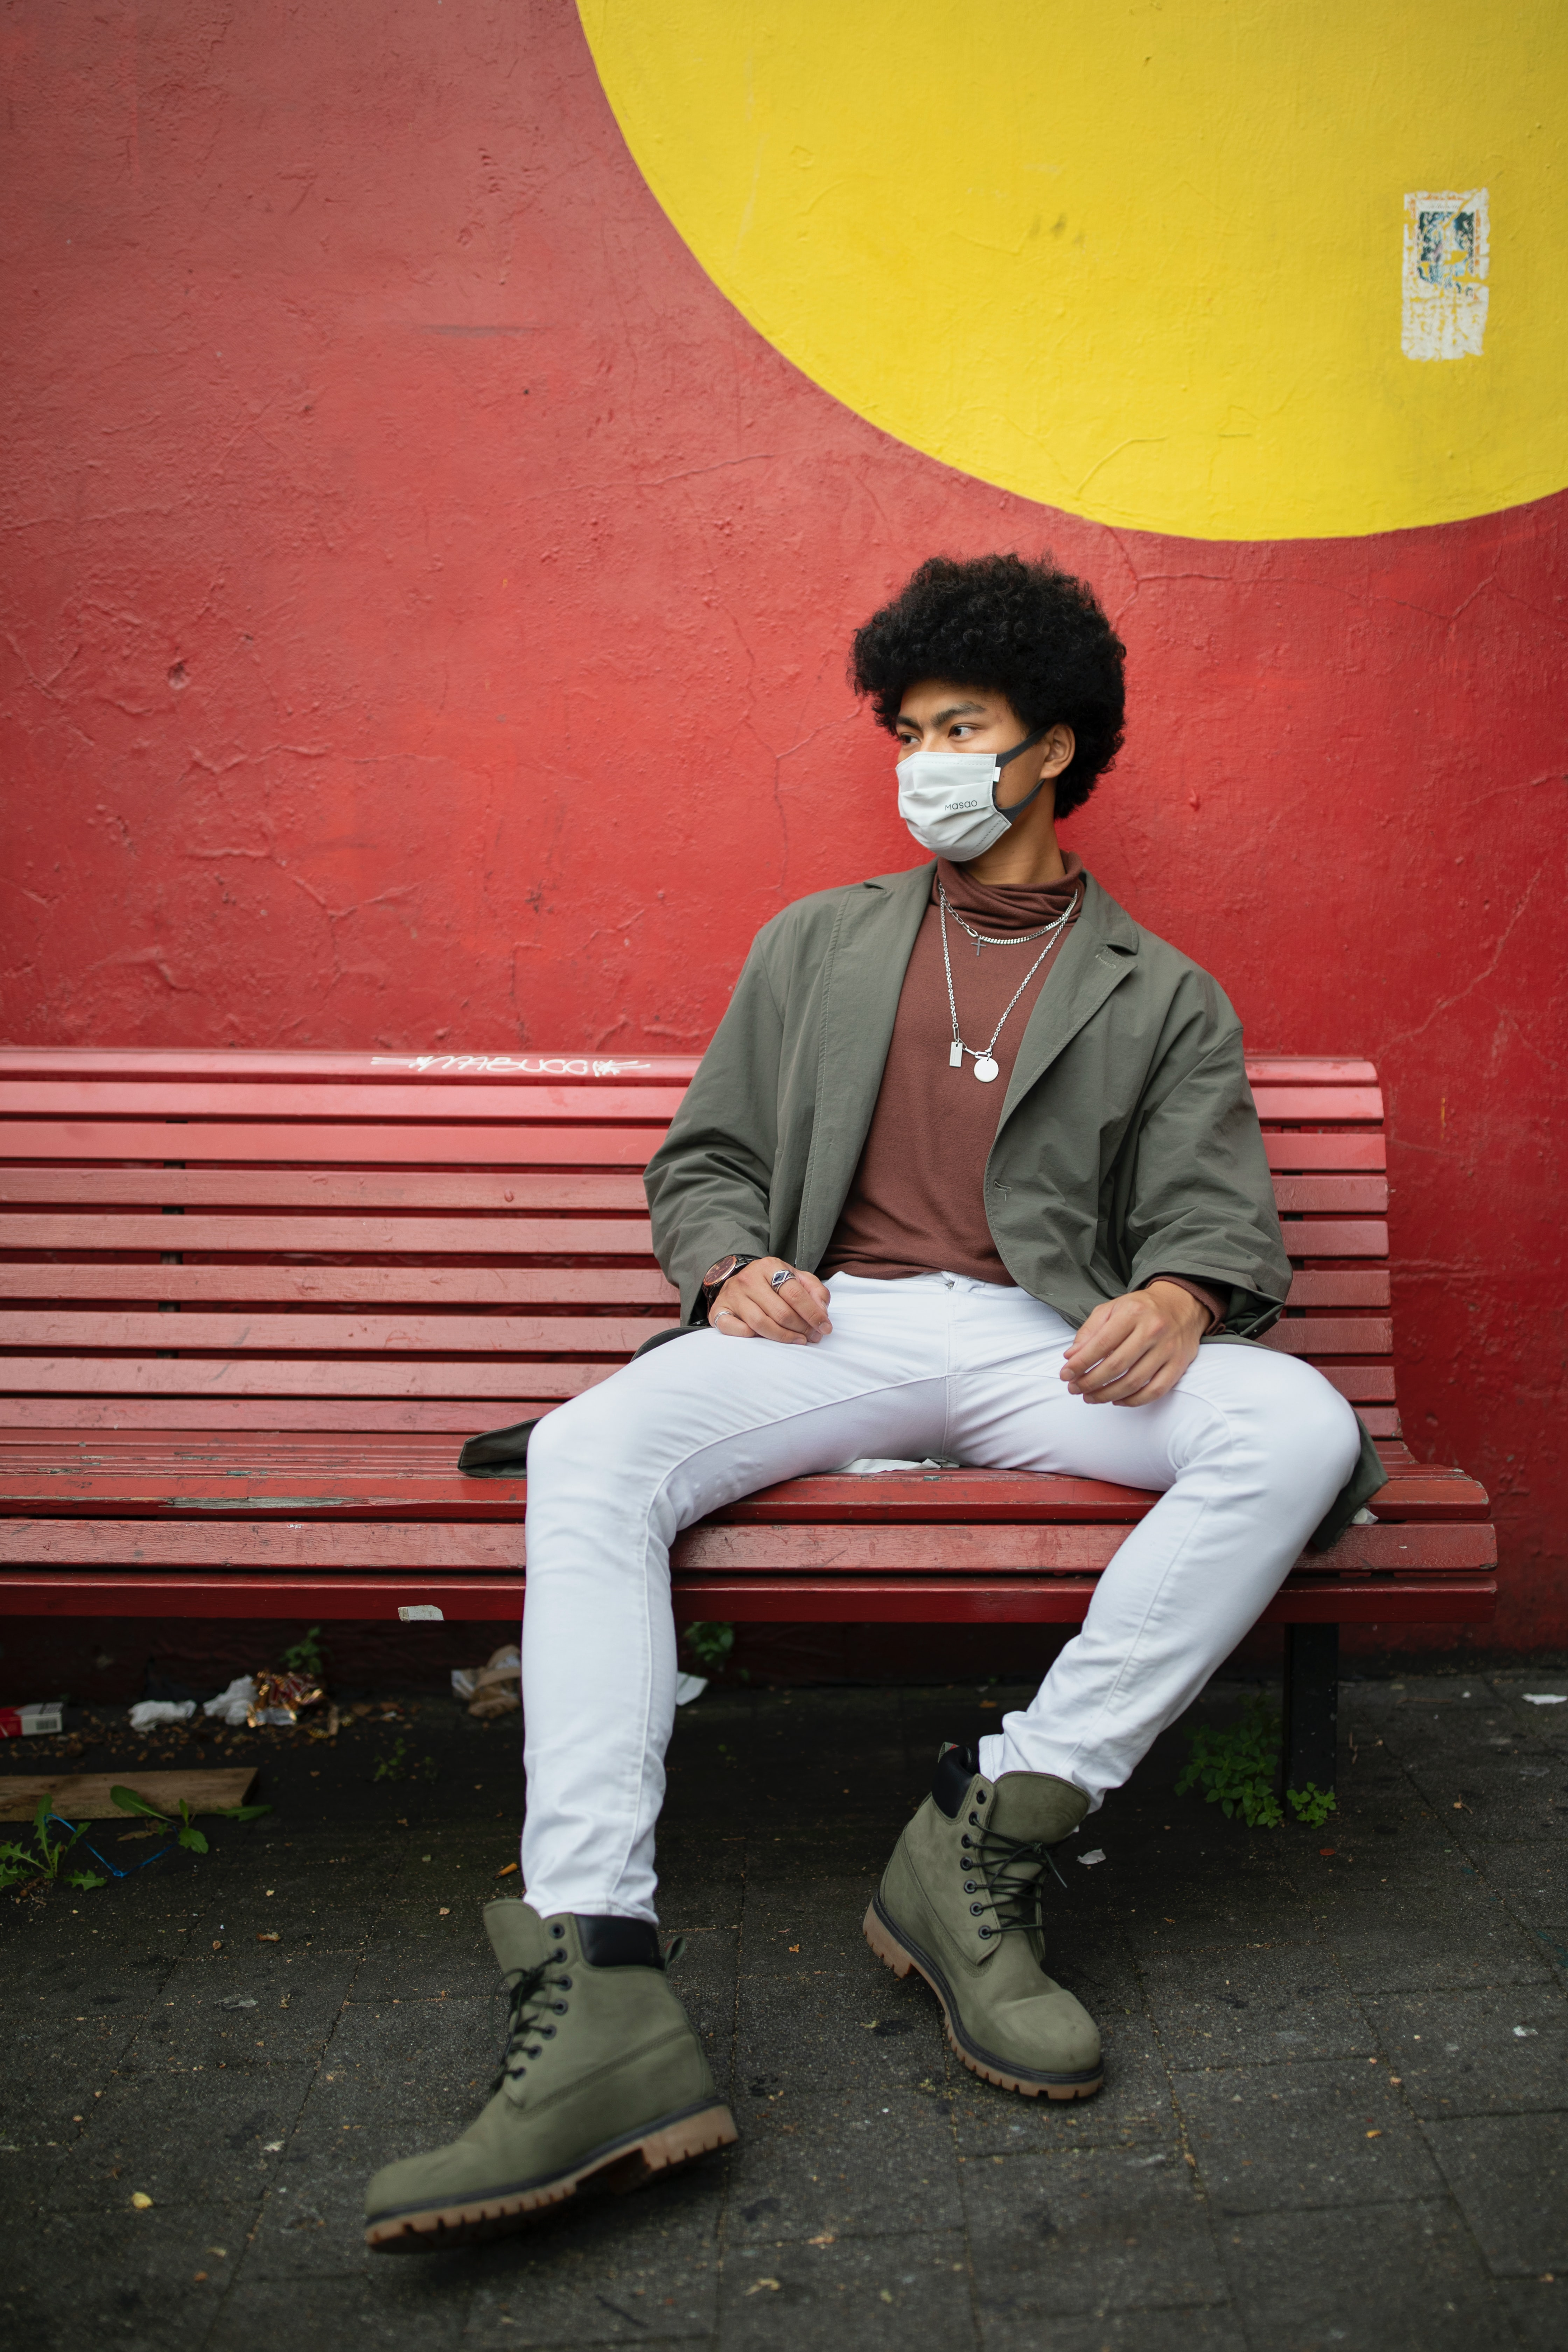mask: (870, 744, 1048, 865)
person: (471, 521, 1322, 2284)
